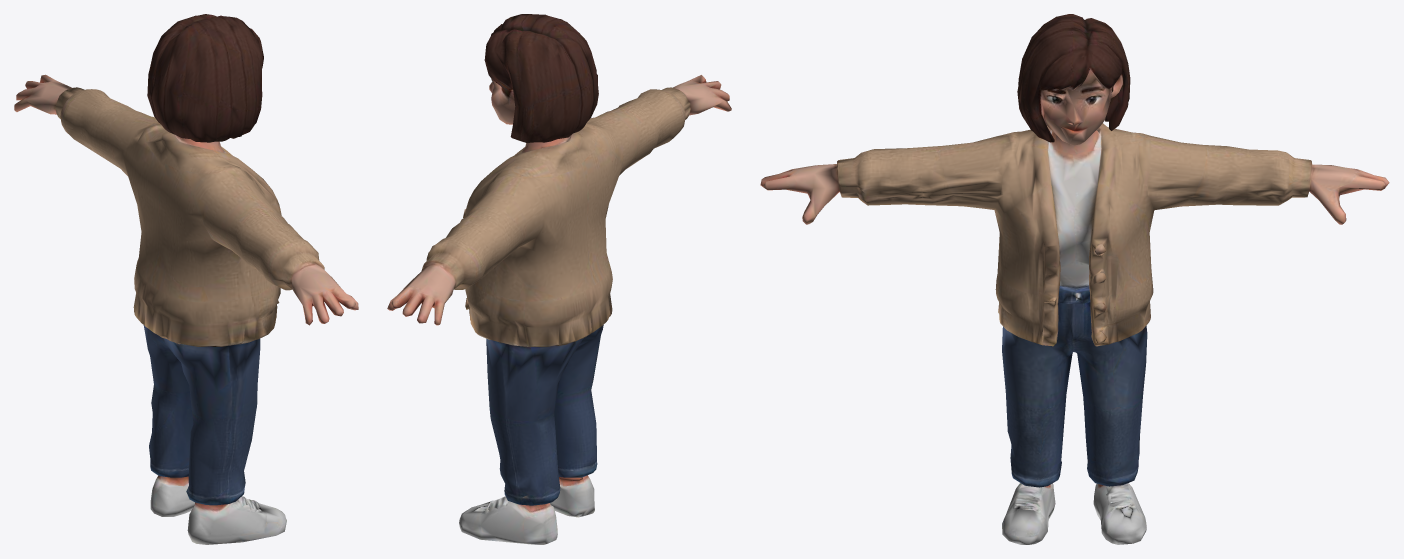
3 views of the same model, side by side, from view 1: azimuth 30°, elevation 25°; view 2: azimuth 150°, elevation 25°; view 3: azimuth 270°, elevation 25° (orthographic).
Parts seen in each view (by area): view 1: tripo_node_a5c3f16f-1ef2-4d43-b097-8db17937dc20; view 2: tripo_node_a5c3f16f-1ef2-4d43-b097-8db17937dc20; view 3: tripo_node_a5c3f16f-1ef2-4d43-b097-8db17937dc20.
Part boxes in pixels (<box>): tripo_node_a5c3f16f-1ef2-4d43-b097-8db17937dc20: <box>14,14,358,544</box>; tripo_node_a5c3f16f-1ef2-4d43-b097-8db17937dc20: <box>387,14,731,544</box>; tripo_node_a5c3f16f-1ef2-4d43-b097-8db17937dc20: <box>760,14,1389,544</box>.
Size of the model in its own units: 0.4373 by 1.7 by 1.94.
1 material, 1 textured.
